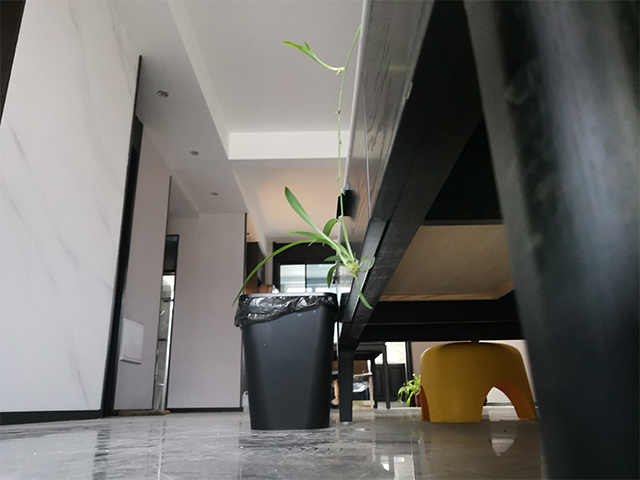stool: (416, 341, 539, 424)
table: (326, 1, 640, 478)
trashcan: (236, 291, 341, 432)
